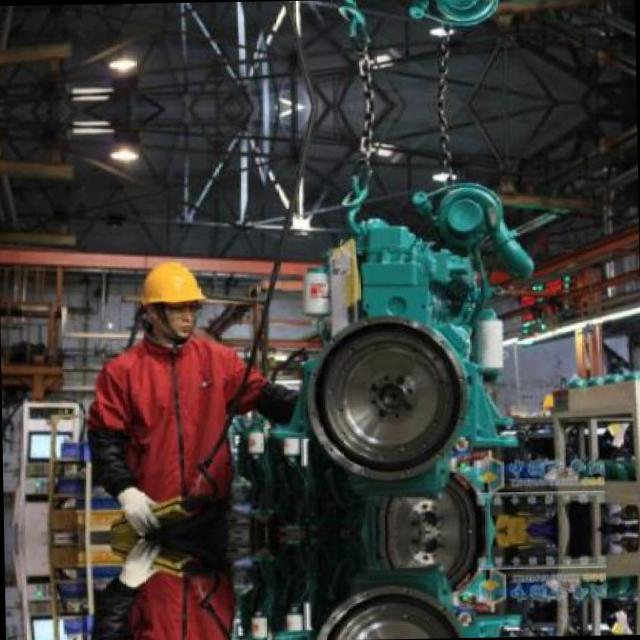helmet: (131, 250, 210, 348)
